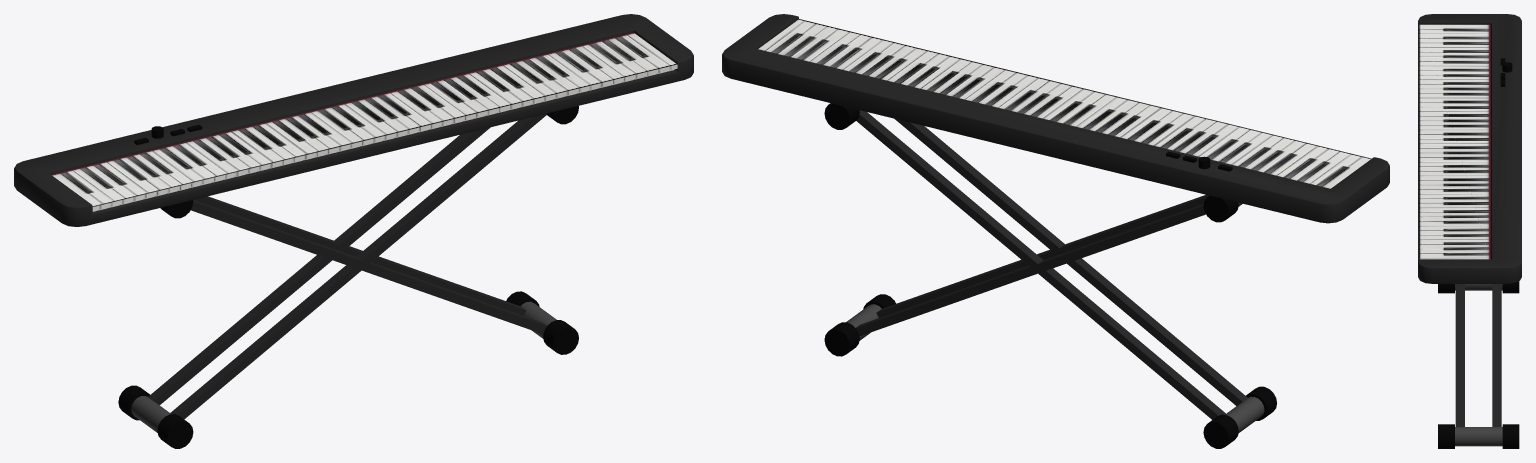
The model's file is Casio Keyboard.fbx.
3 views of the same model, side by side, from view 1: azimuth 30°, elevation 25°; view 2: azimuth 150°, elevation 25°; view 3: azimuth 270°, elevation 25° (orthographic). The views are drawn at different scales.
Parts seen in each view (by area): view 1: Casio Keyboard; view 2: Casio Keyboard; view 3: Casio Keyboard.
Boxes of the visible parts, x1,y1,x2,y2 form: Casio Keyboard: (14, 14, 693, 448); Casio Keyboard: (722, 14, 1389, 448); Casio Keyboard: (1418, 14, 1521, 448).
Size of the model in its own units: 2.22 by 0.9611 by 0.3844.
